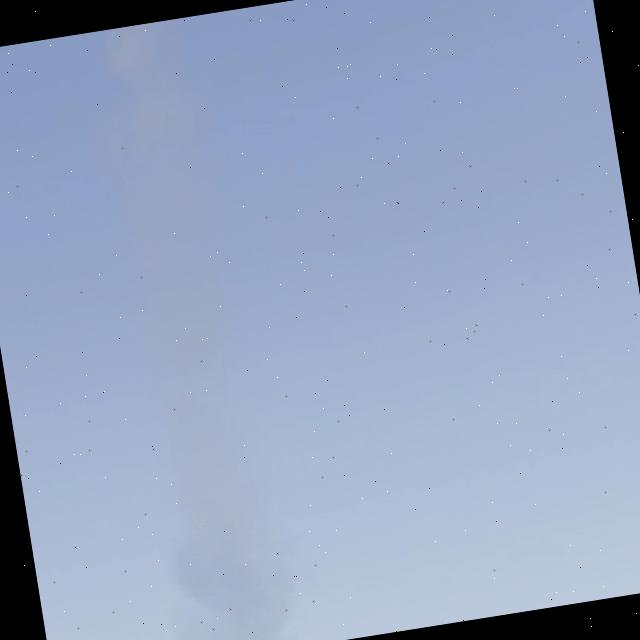smoke_trail_with_rocket: (110, 19, 288, 640)
